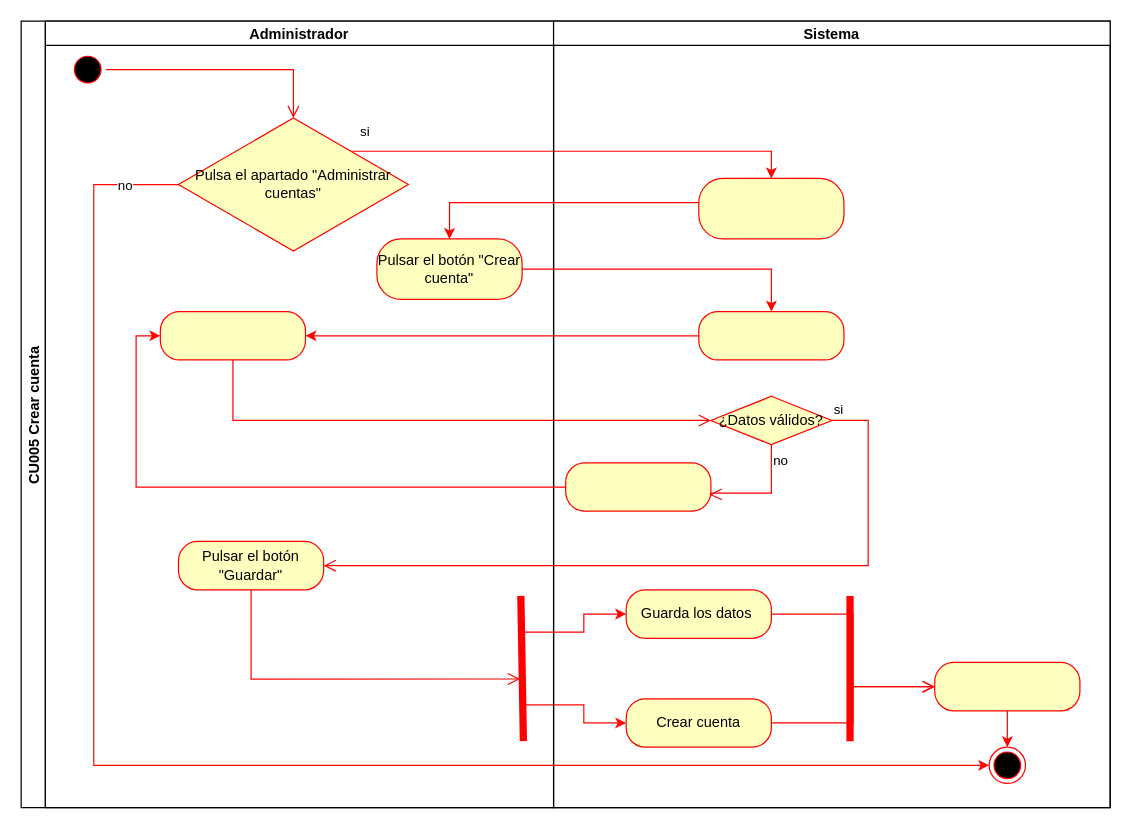
The diagram is 1131 pixels wide and 829 high, and some of its shapes have lost their labels. The centre of each missing label's shape, as x and y in pixels:
"Diligenciar formulario" belongs at (x=232, y=335).
"Mostrar apartado" belongs at (x=771, y=208).
"Mostrar formulario creación de cuenta" belongs at (x=771, y=335).
"Mostrar mensaje de error" belongs at (x=637, y=486).
"Mostrar mensaje de éxito" belongs at (x=1007, y=686).
